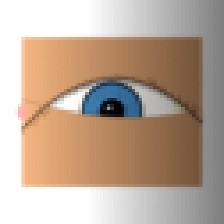pinguecula_lesion: (162, 90, 204, 124)
